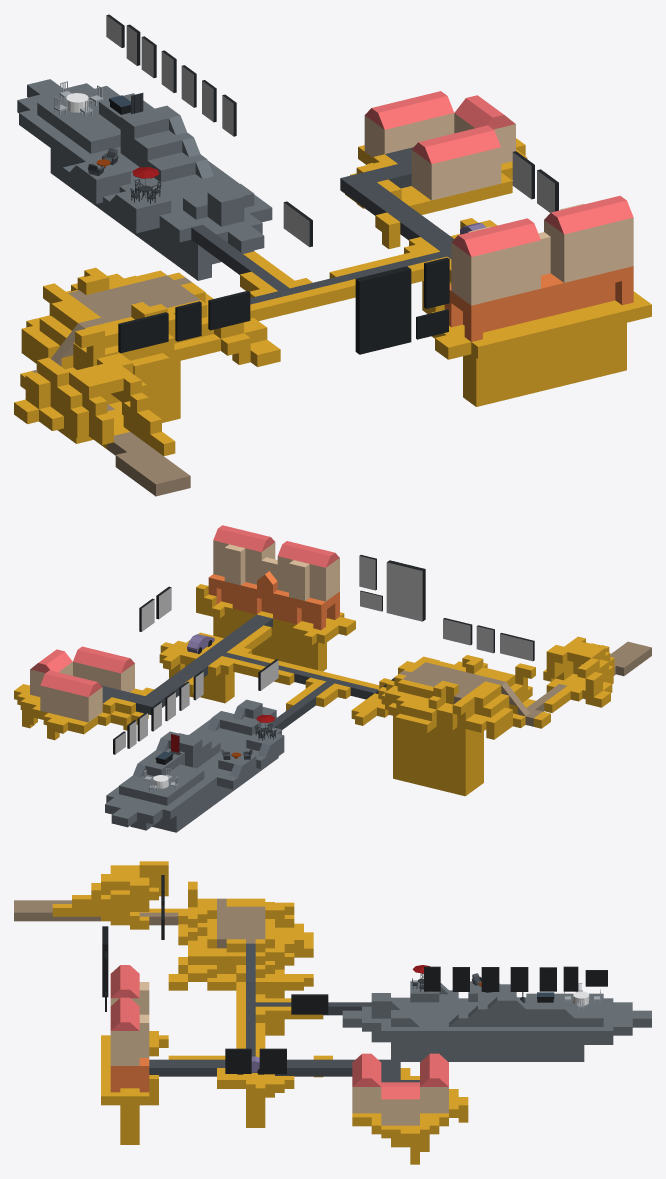
Rendered from Battleship-Momento.fbx.
3 renders of one model, top to bottom at view 1: azimuth 30°, elevation 25°; view 2: azimuth 150°, elevation 25°; view 3: azimuth 270°, elevation 25°, orthographic. The views are drawn at different scales.
Parts seen in each view (by area): view 1: Cube.600, Cube.005, Tuscany, Garret Gardens, Streets, Walkable Sand, Posters D, Posters E, Posters A, Posters C, Cube.812, Posters B (+1 smaller); view 2: Cube.600, Cube.005, Tuscany, Garret Gardens, Streets, Walkable Sand, Posters D, Posters E, Posters A, Posters C; view 3: Cube.600, Cube.005, Garret Gardens, Tuscany, Streets, Walkable Sand, Posters A, Posters C, Posters B, Posters D.
Boxes of the visible parts, left/top/right/bottom form: Cube.600: left=14, top=138, right=651, bottom=455; Cube.005: left=17, top=79, right=272, bottom=280; Tuscany: left=444, top=195, right=633, bottom=341; Garret Gardens: left=364, top=91, right=515, bottom=200; Streets: left=191, top=147, right=453, bottom=304; Walkable Sand: left=32, top=275, right=200, bottom=496; Posters D: left=355, top=257, right=449, bottom=354; Posters E: left=118, top=290, right=250, bottom=353; Posters A: left=106, top=14, right=236, bottom=136; Posters C: left=512, top=151, right=558, bottom=212; Cube.812: left=54, top=81, right=103, bottom=117; Posters B: left=283, top=201, right=312, bottom=247; Cube.600: left=14, top=584, right=614, bottom=796; Cube.005: left=105, top=699, right=284, bottom=832; Tuscany: left=208, top=525, right=339, bottom=629; Garret Gardens: left=30, top=646, right=134, bottom=722; Streets: left=101, top=614, right=394, bottom=729; Walkable Sand: left=399, top=641, right=651, bottom=726; Posters D: left=359, top=555, right=425, bottom=621; Posters E: left=443, top=618, right=534, bottom=661; Posters A: left=113, top=671, right=203, bottom=754; Posters C: left=139, top=586, right=171, bottom=631; Cube.600: left=52, top=861, right=468, bottom=1164; Cube.005: left=342, top=981, right=651, bottom=1061; Garret Gardens: left=352, top=1053, right=448, bottom=1125; Tuscany: left=110, top=965, right=149, bottom=1092; Streets: left=149, top=943, right=419, bottom=1082; Walkable Sand: left=14, top=898, right=265, bottom=948; Posters A: left=424, top=966, right=607, bottom=991; Posters C: left=225, top=1048, right=286, bottom=1074; Posters B: left=291, top=994, right=328, bottom=1014; Posters D: left=102, top=926, right=108, bottom=1011.
Size of the model in its own units: 5800 by 1600 by 6600.
